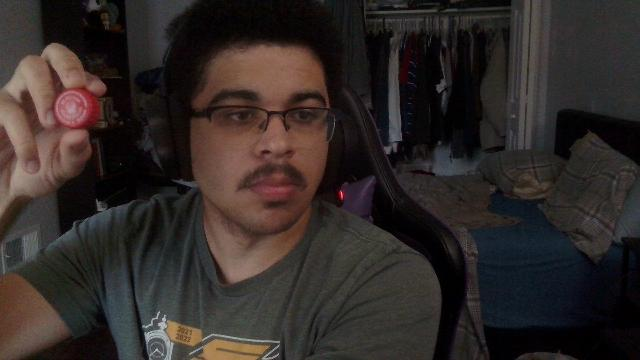cap: (54, 87, 100, 129)
